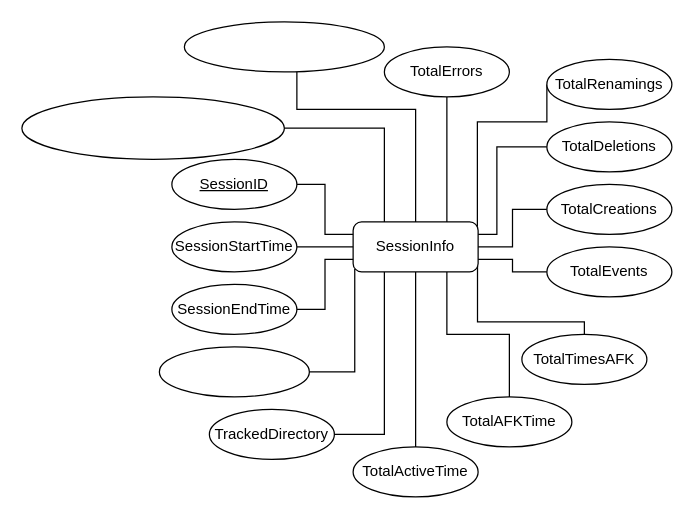
This 694x519 diagram has some shape labels left out. The box of each missing label's shape, as (x1, y1, x2, y2) in pixels:
DefaultAFKStartLimitInMiliseconds: (21, 96, 284, 159)
SessionWasClosedByEvent: (183, 21, 384, 72)
TotalSessionDuration: (158, 346, 309, 397)
